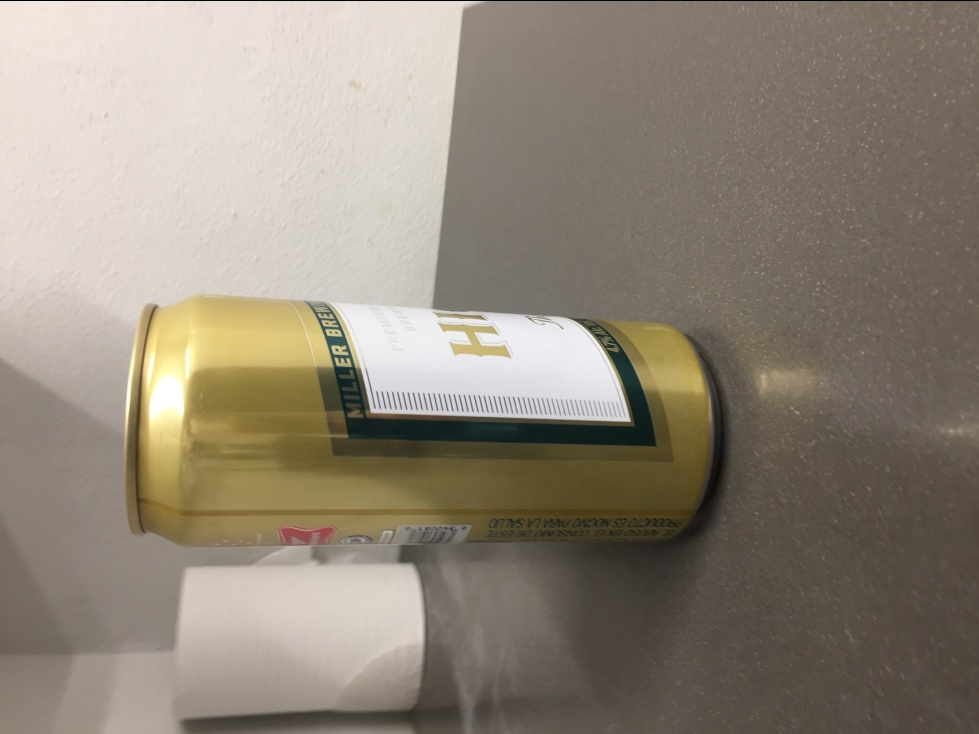miller: (120, 294, 725, 550)
